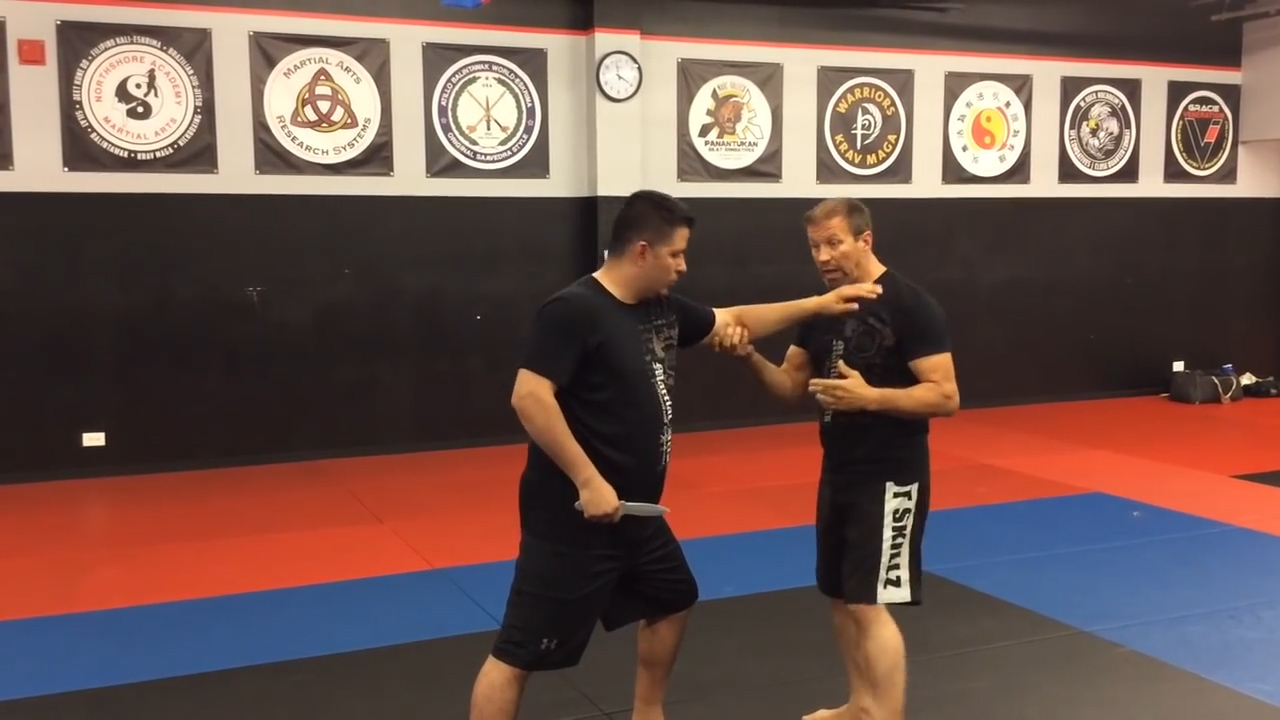knife: (572, 486, 675, 524)
